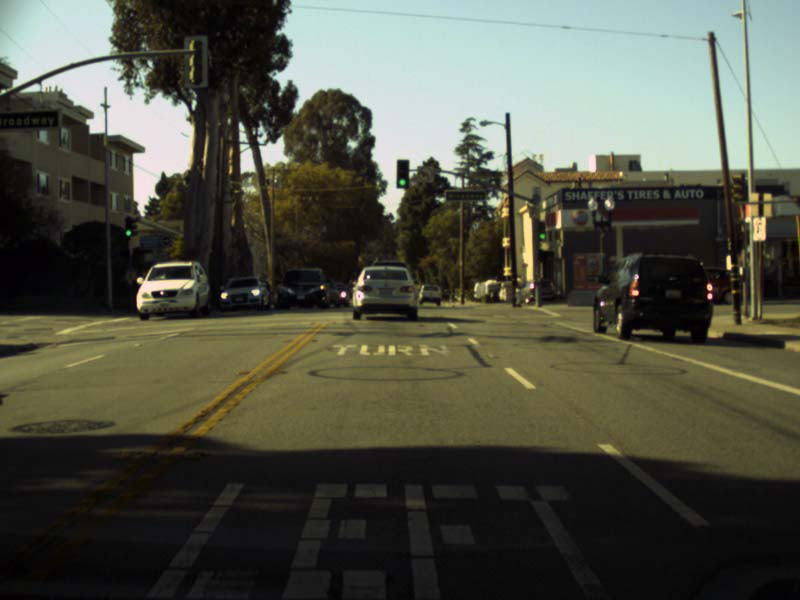Green: (396, 159, 408, 188), (536, 222, 545, 239), (124, 217, 131, 236)
